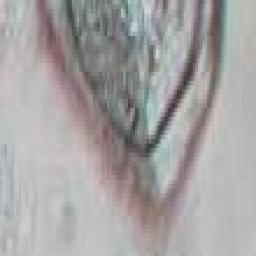crystals: (42, 1, 227, 221)
